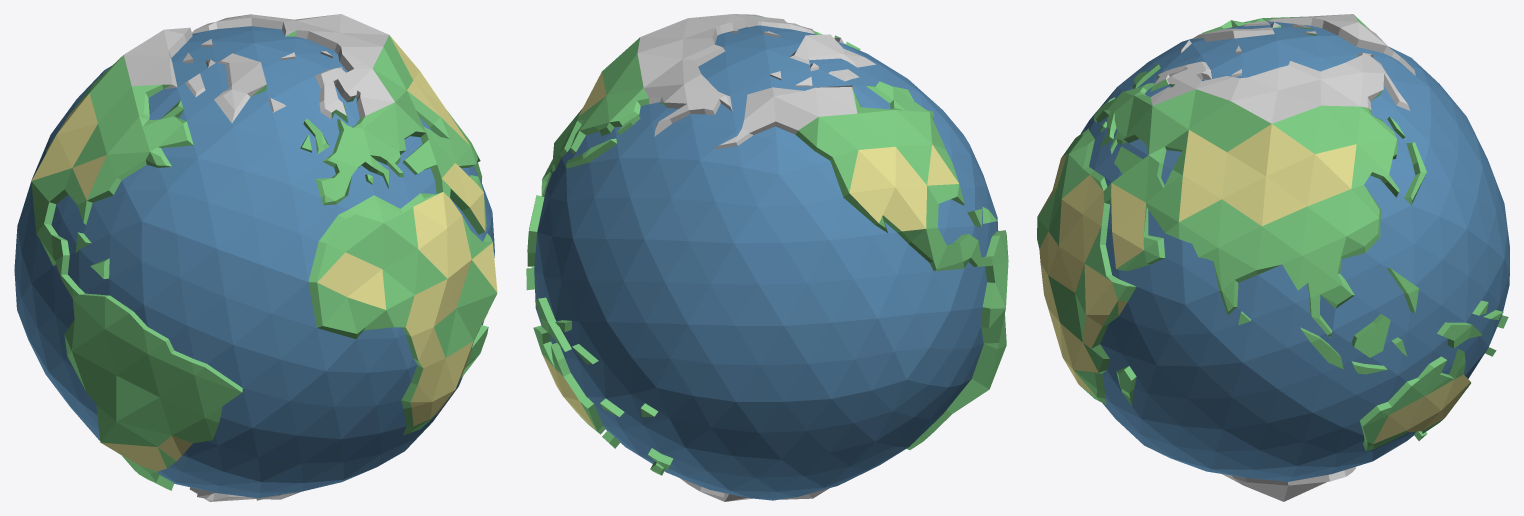
The model's file is earth.gltf.
The picture shows the model from 3 angles, left to right: view 1: azimuth 30°, elevation 25°; view 2: azimuth 150°, elevation 25°; view 3: azimuth 270°, elevation 25°; orthographic projection. The views are drawn at different scales.
Visible parts, largest first — view 1: earth4; view 2: earth4; view 3: earth4.
Boxes of the visible parts, x1,y1,x2,y2 form: earth4: (14, 14, 497, 501); earth4: (526, 14, 1008, 501); earth4: (1037, 14, 1509, 501).
Size of the model in its own units: 17.33 by 17.94 by 17.29.
